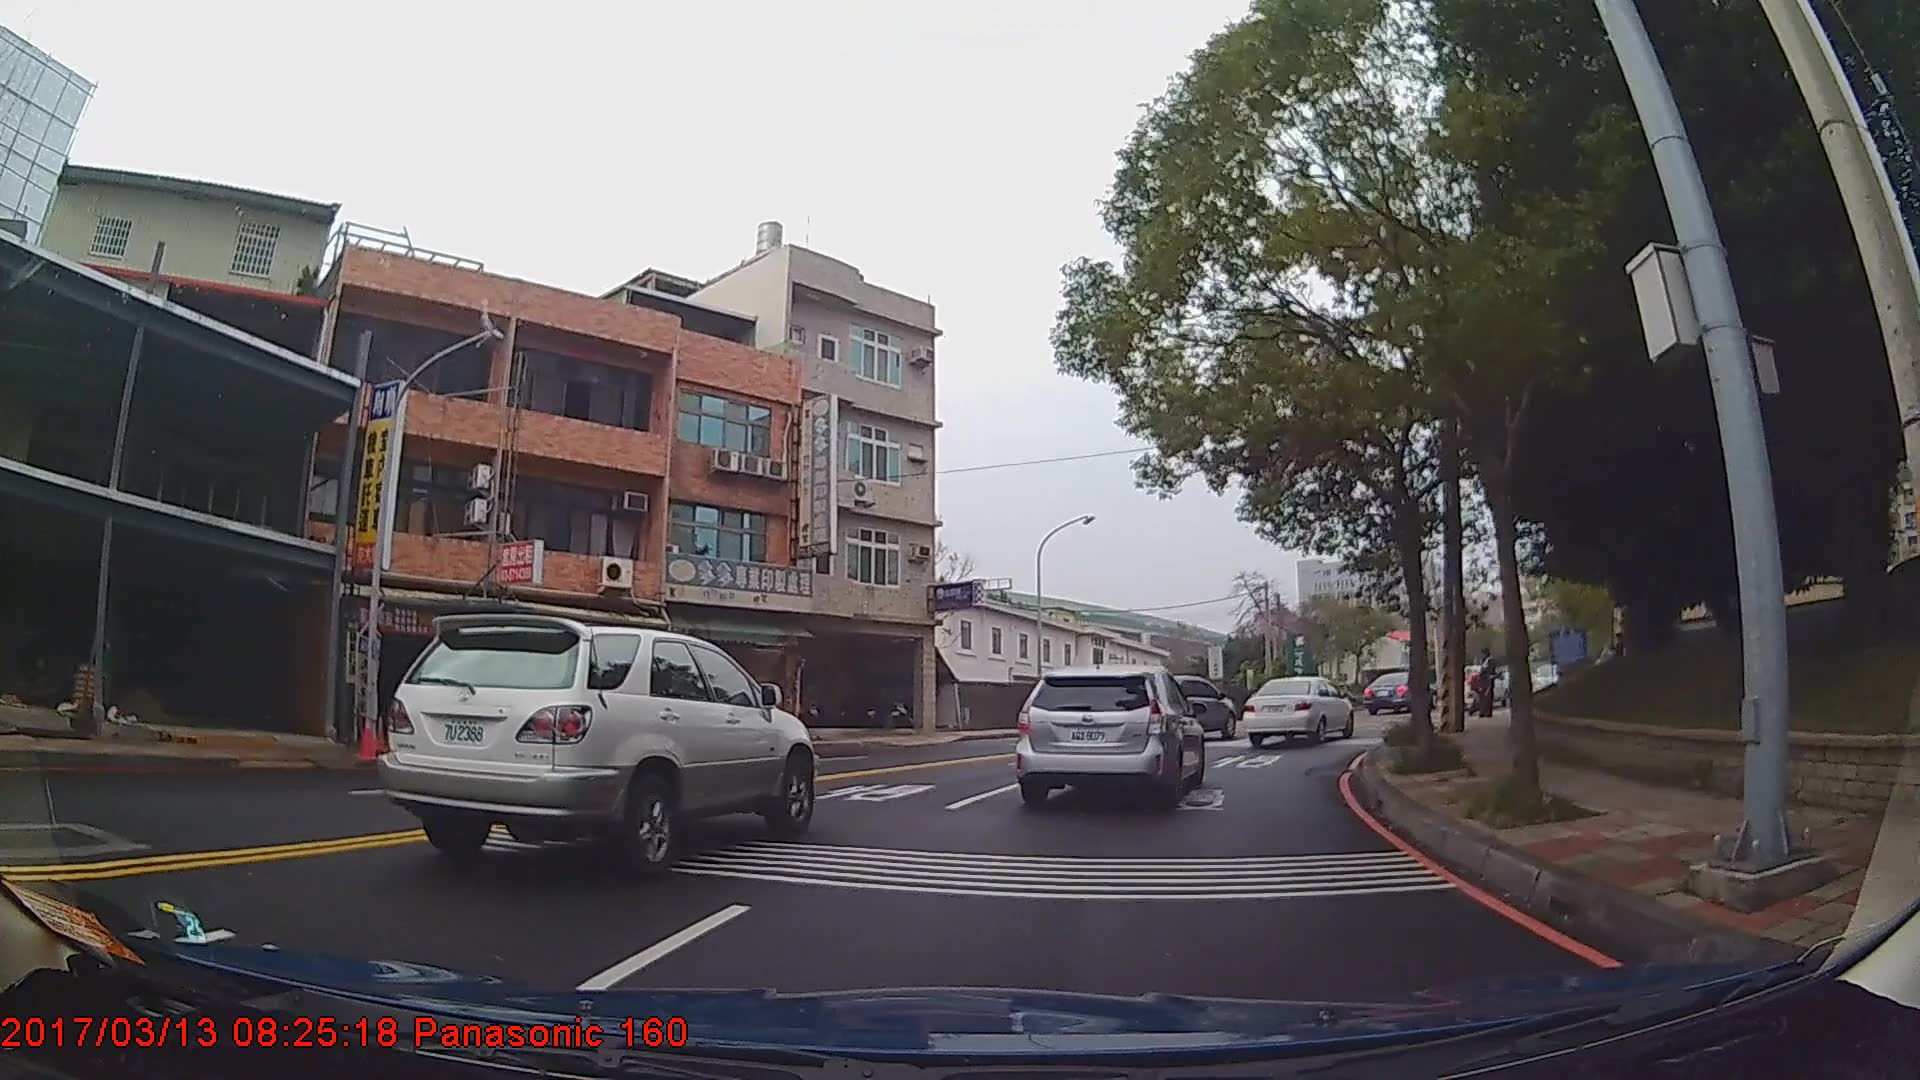vehicle: (372, 612, 818, 884), (1011, 662, 1205, 814), (1240, 673, 1356, 744), (1142, 675, 1236, 741), (1364, 669, 1431, 716)
